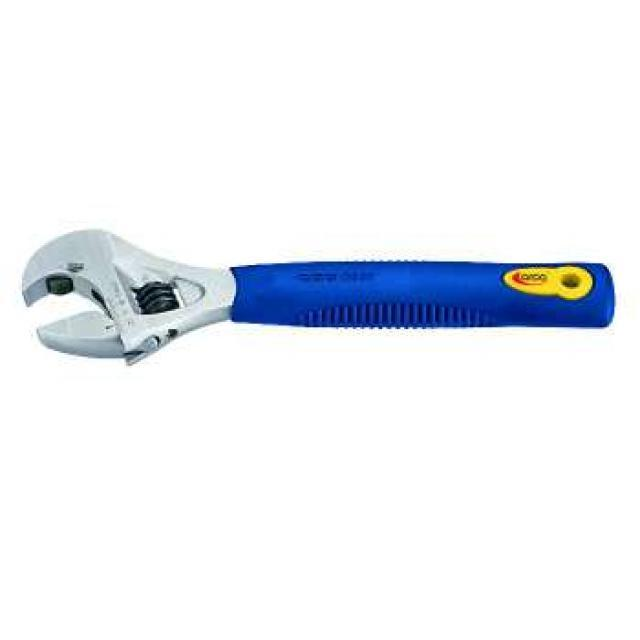wrench: (13, 222, 627, 376)
